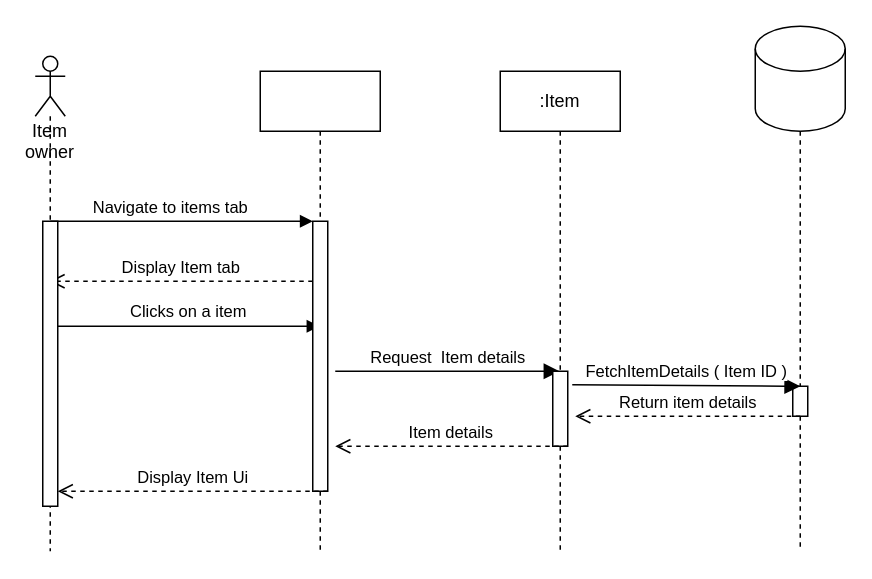
Some shapes in this 872 by 579 pixel diagram are drawn without their labels. The box of each missing label's shape, as (x1, y1, x2, y2) in pixels:
:ItemOwnerUI: (259, 70, 380, 551)
Database: (754, 25, 845, 131)
